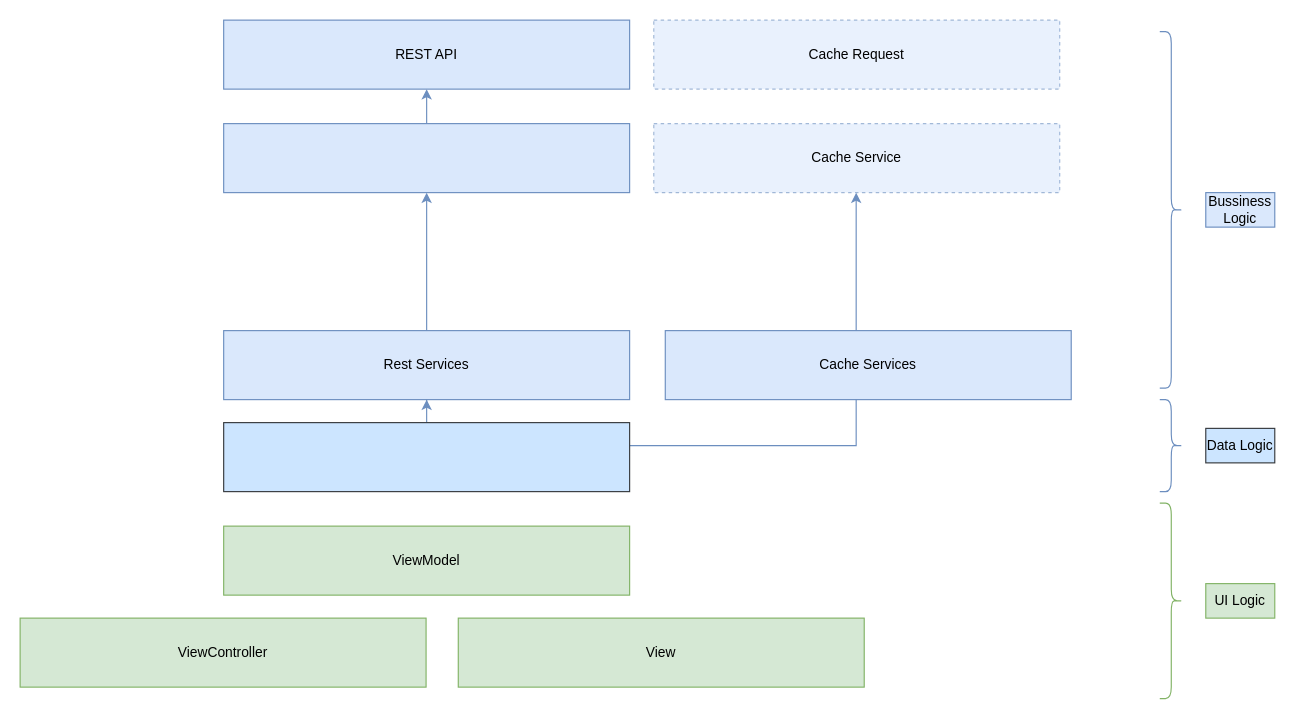
This 1295x719 diagram has some shape labels left out. Each missing label, with the centre of its shape:
"Network Request" belongs at (x=426, y=157).
"Repositories" belongs at (x=426, y=456).
